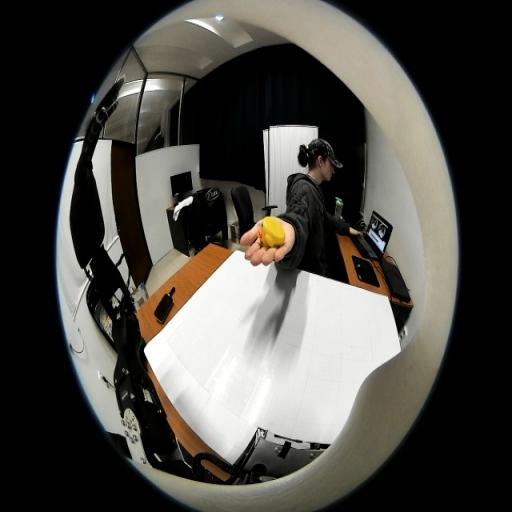Duck: (257, 217, 286, 247)
LeftHand: (81, 114, 103, 154)
